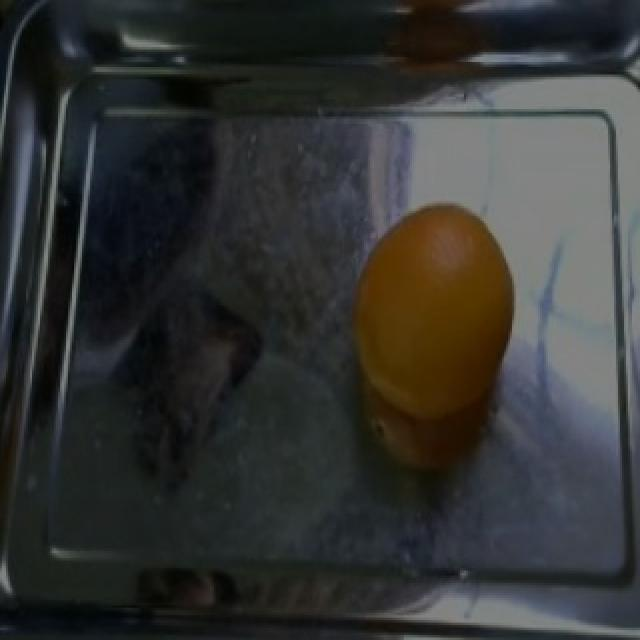Fruit: (346, 194, 522, 426)
